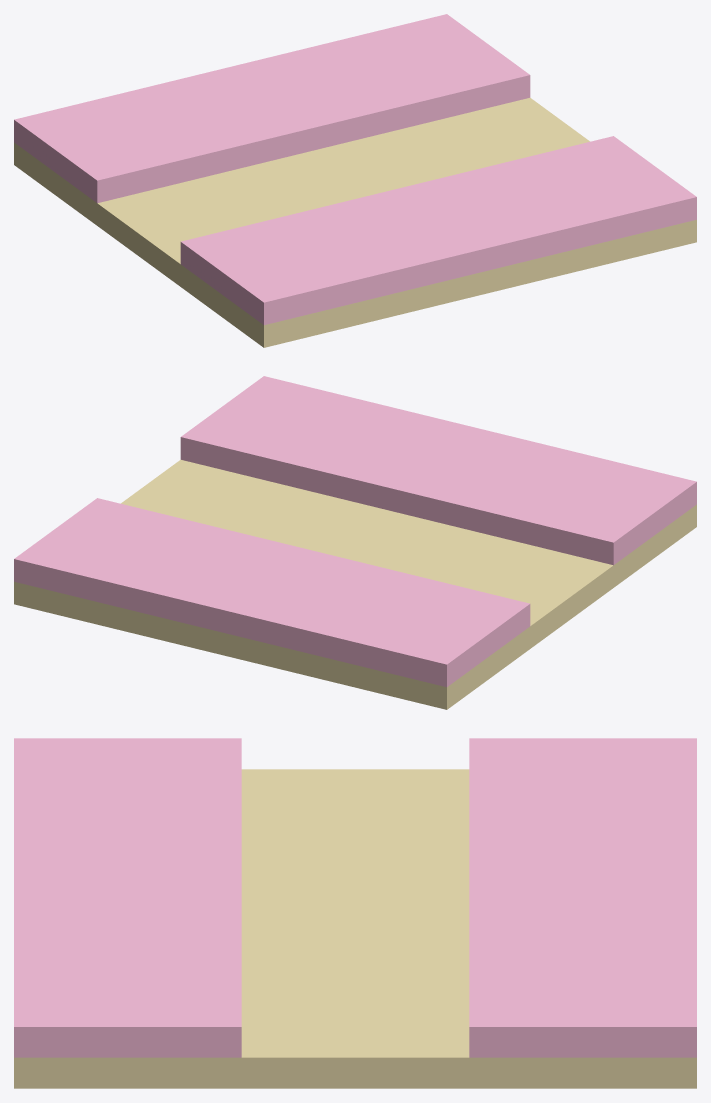
The model's file is CandylandStraight.fbx.
3 views of the same model, one above another, from view 1: azimuth 30°, elevation 25°; view 2: azimuth 150°, elevation 25°; view 3: azimuth 270°, elevation 25° (orthographic). The views are drawn at different scales.
Parts seen in each view (by area): view 1: CandylandStraight; view 2: CandylandStraight; view 3: CandylandStraight.
Part boxes in pixels (<box>): CandylandStraight: <box>14,14,696,347</box>; CandylandStraight: <box>14,376,696,709</box>; CandylandStraight: <box>14,738,696,1088</box>.
Bounding box in the file's own units: 1 × 0.1 × 1.
